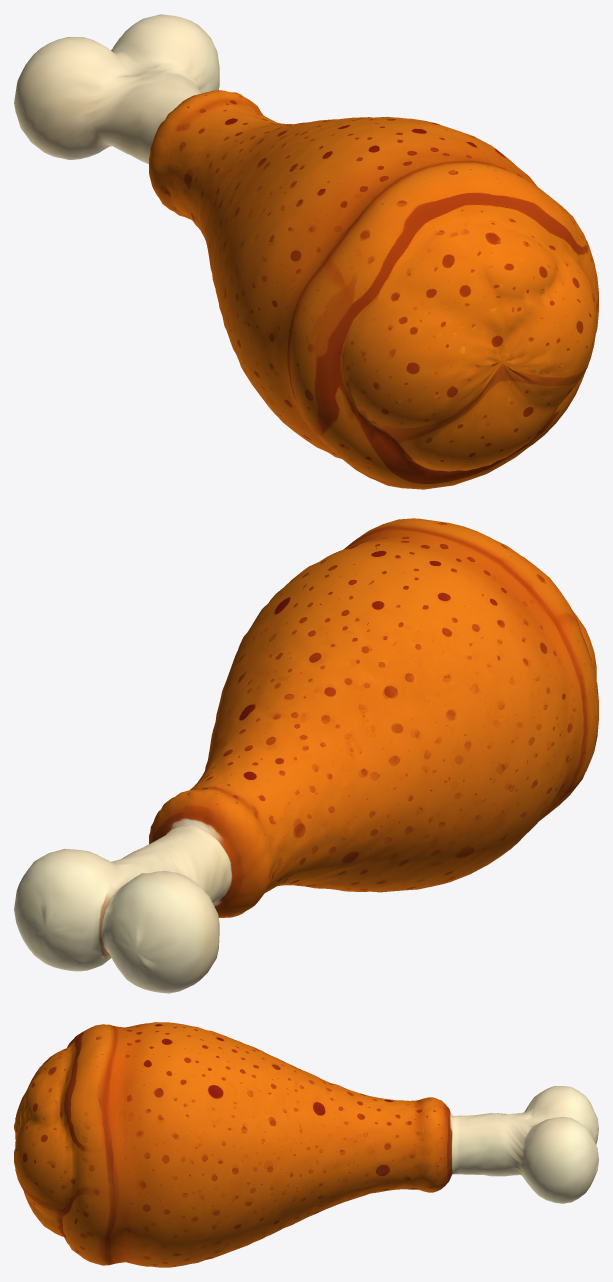
Rendered from fried_chicken.fbx.
3 renders of one model, top to bottom at view 1: azimuth 30°, elevation 25°; view 2: azimuth 150°, elevation 25°; view 3: azimuth 270°, elevation 25°, orthographic. The views are drawn at different scales.
Visible parts, largest first — view 1: Mesh_0.004; view 2: Mesh_0.004; view 3: Mesh_0.004.
Part boxes in pixels (bbox=[...]): Mesh_0.004: bbox=[14, 14, 598, 489]; Mesh_0.004: bbox=[14, 518, 598, 993]; Mesh_0.004: bbox=[14, 1022, 598, 1267].
Size of the model in its own units: 16.05 by 16.05 by 38.12.
1 material, 1 textured.
